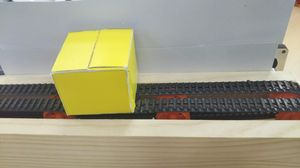box4: (49, 25, 139, 116)
